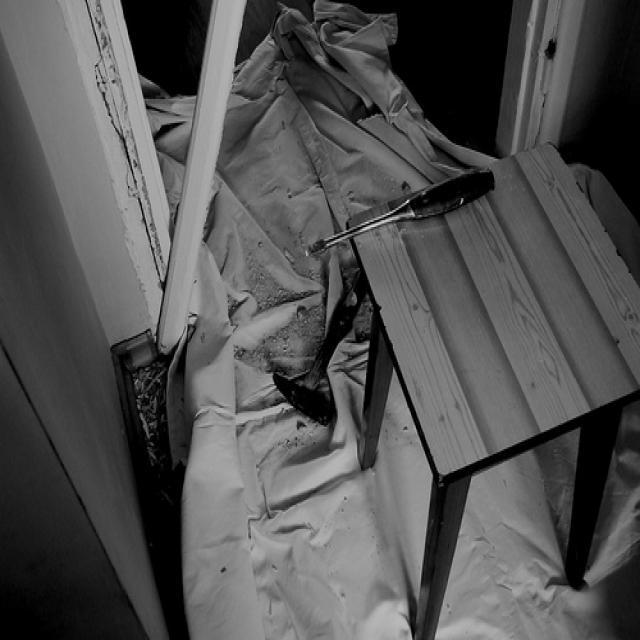hammer: (264, 260, 382, 442)
screwdriver: (282, 160, 504, 268)
